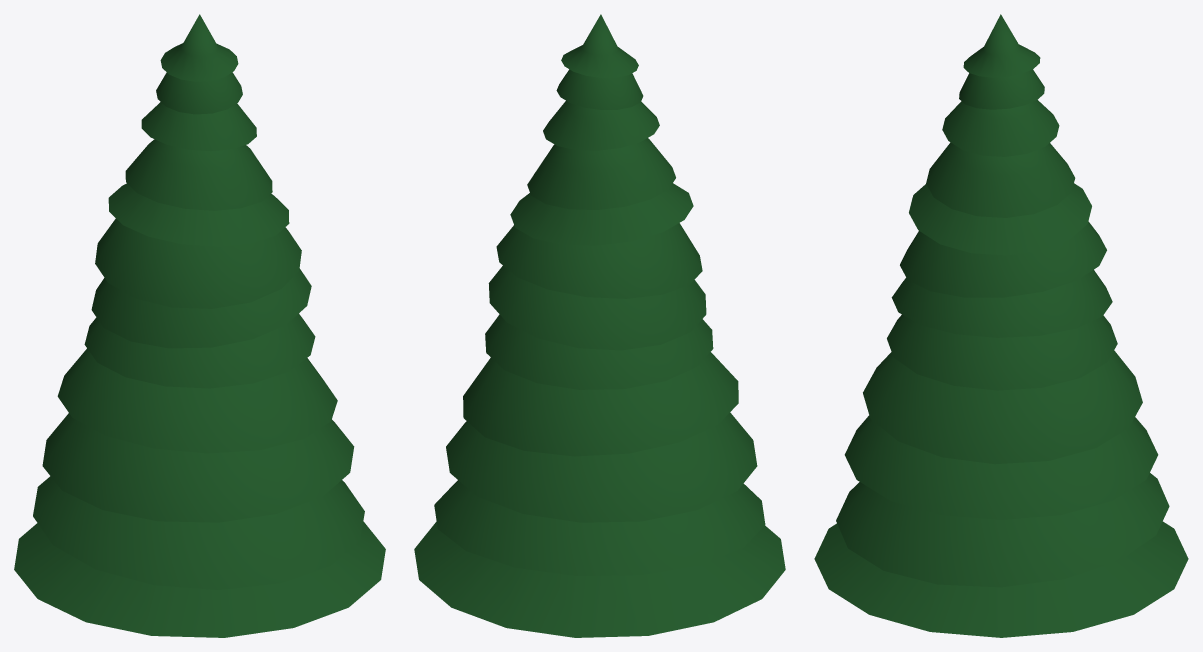
File: XmasTree.fbx
3 renders of one model, left to right at view 1: azimuth 30°, elevation 25°; view 2: azimuth 150°, elevation 25°; view 3: azimuth 270°, elevation 25°, orthographic.
Parts seen in each view (by area): view 1: XmasTree; view 2: XmasTree; view 3: XmasTree.
Part boxes in pixels (x1,y1,x2,y2): XmasTree: [14, 14, 385, 637]; XmasTree: [414, 14, 785, 637]; XmasTree: [814, 14, 1188, 637].
Bounding box in the file's own units: 5.44 × 9.66 × 5.44.
